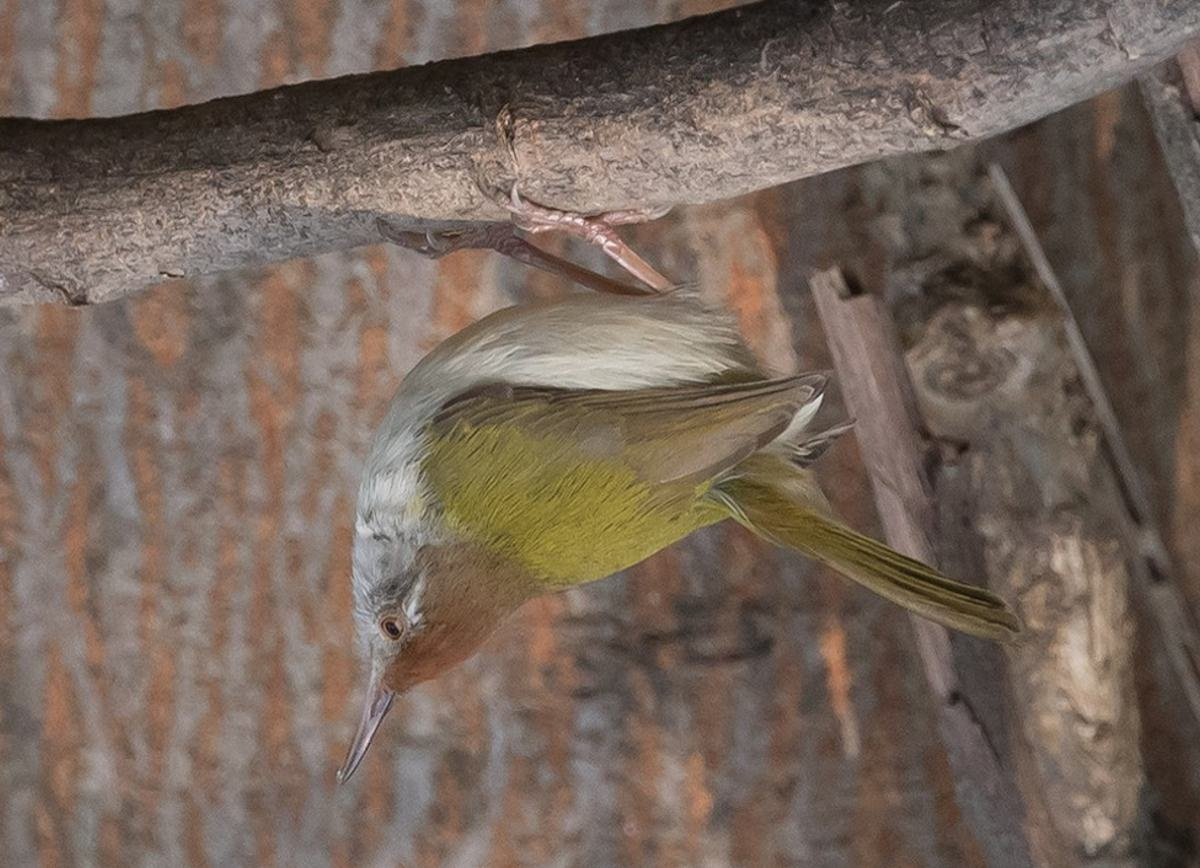tailorbird: (303, 194, 1031, 811)
